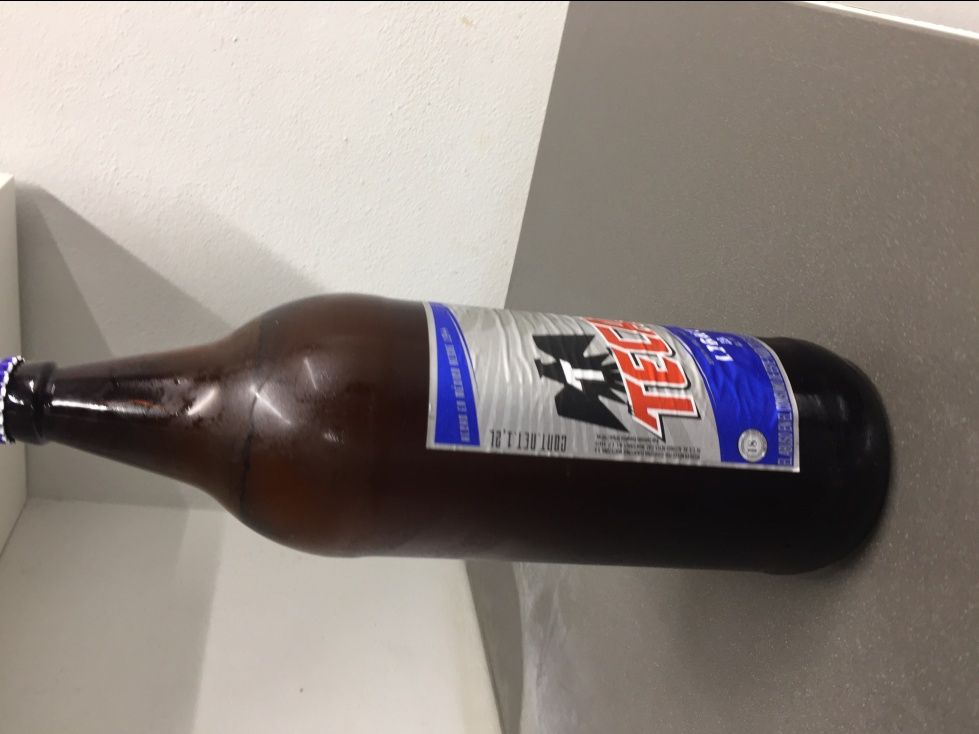tecateC: (5, 295, 887, 580)
